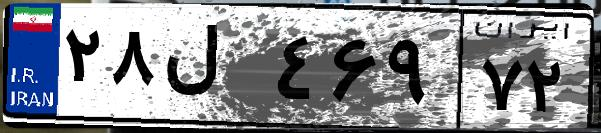2: (57, 26, 110, 100), (525, 38, 570, 115)
4: (270, 28, 330, 110)
6: (330, 28, 385, 110)
7: (475, 38, 525, 113)
8: (110, 28, 158, 98)
9: (385, 28, 445, 110)
ل: (158, 20, 270, 120)
